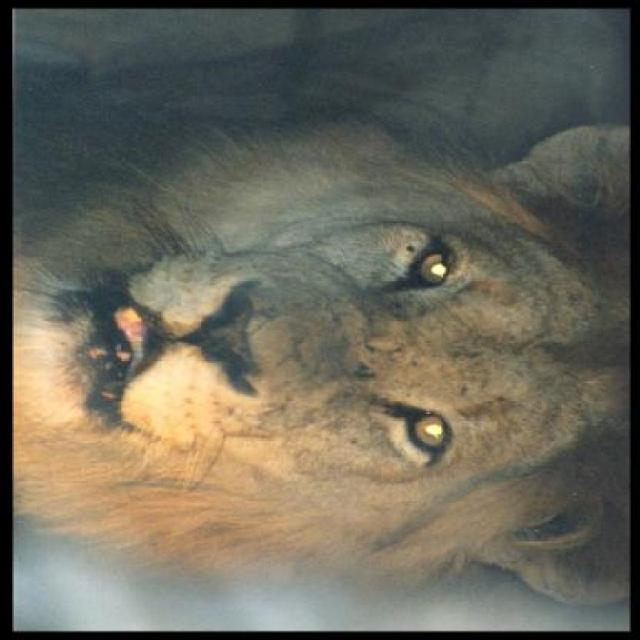Lion: (2, 119, 620, 606)
